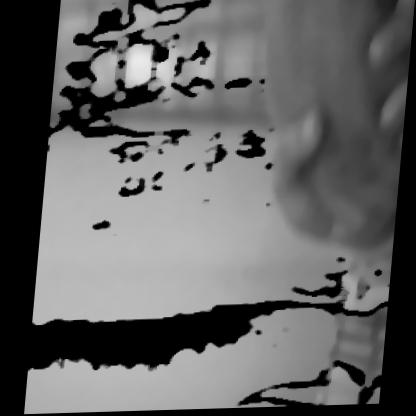handshake: (215, 0, 414, 256)
